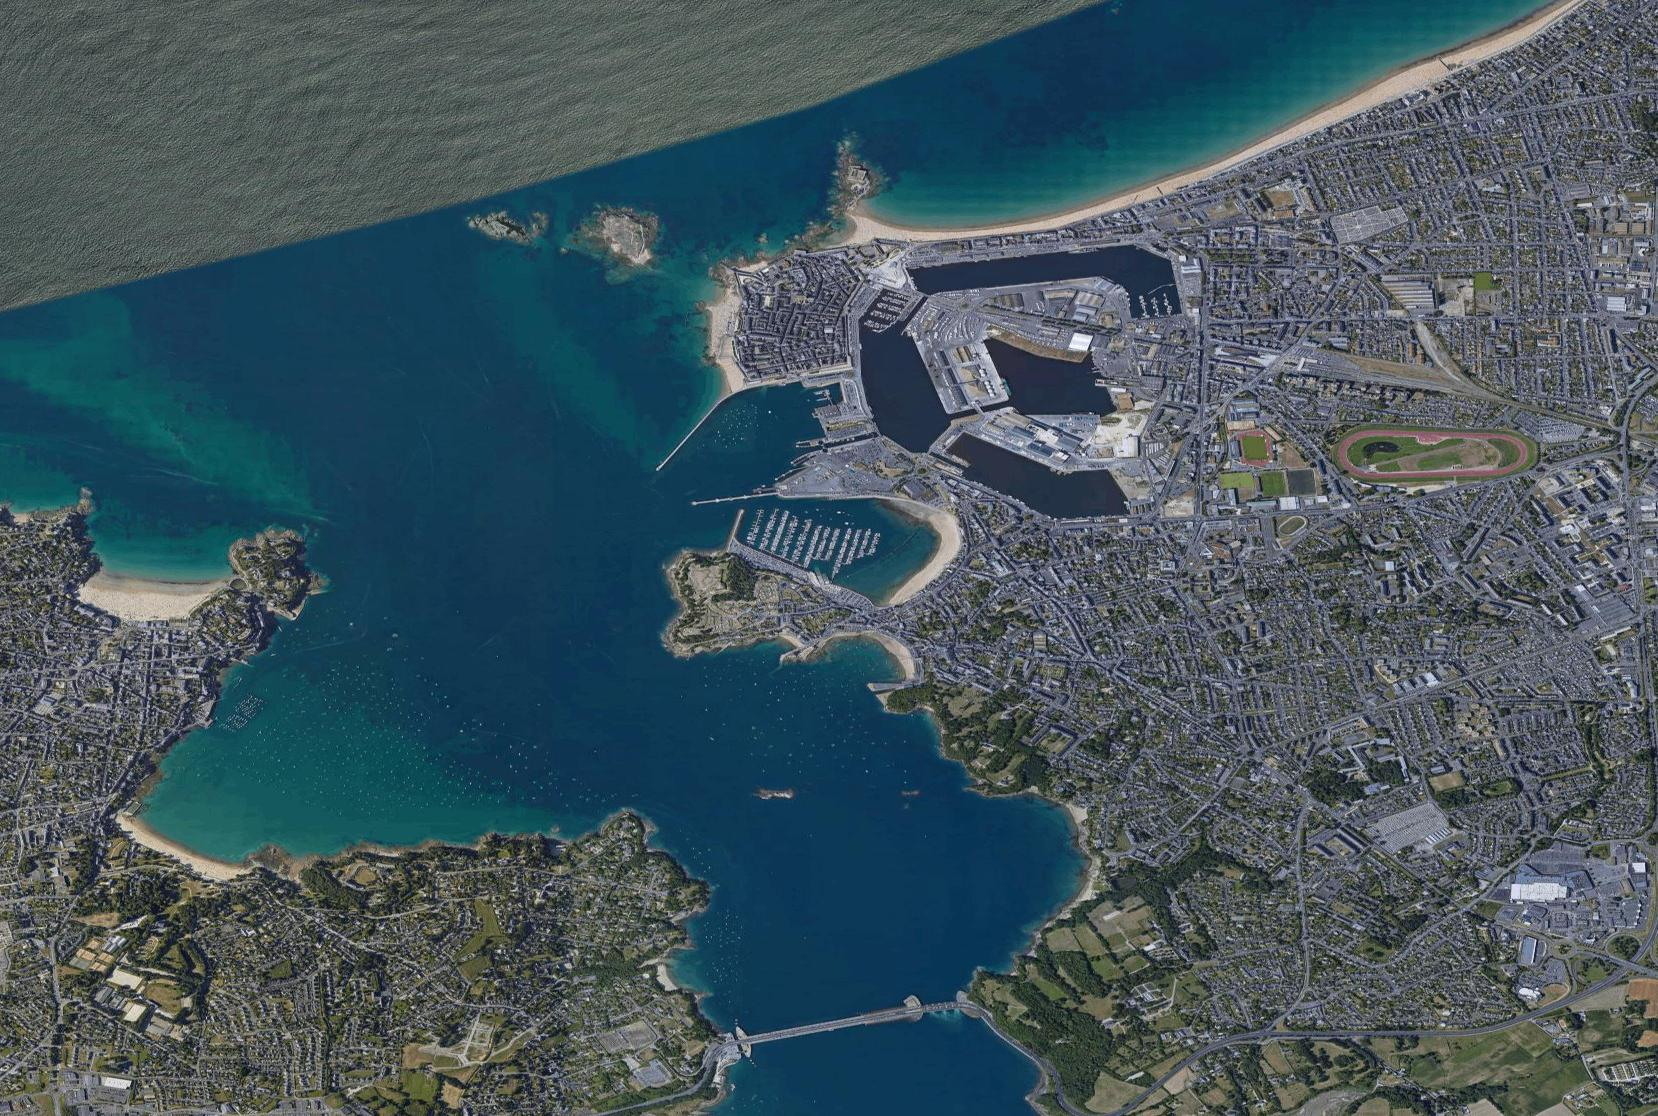bridge: (731, 996, 968, 1046)
harbor: (862, 262, 1181, 508), (713, 470, 945, 617)
